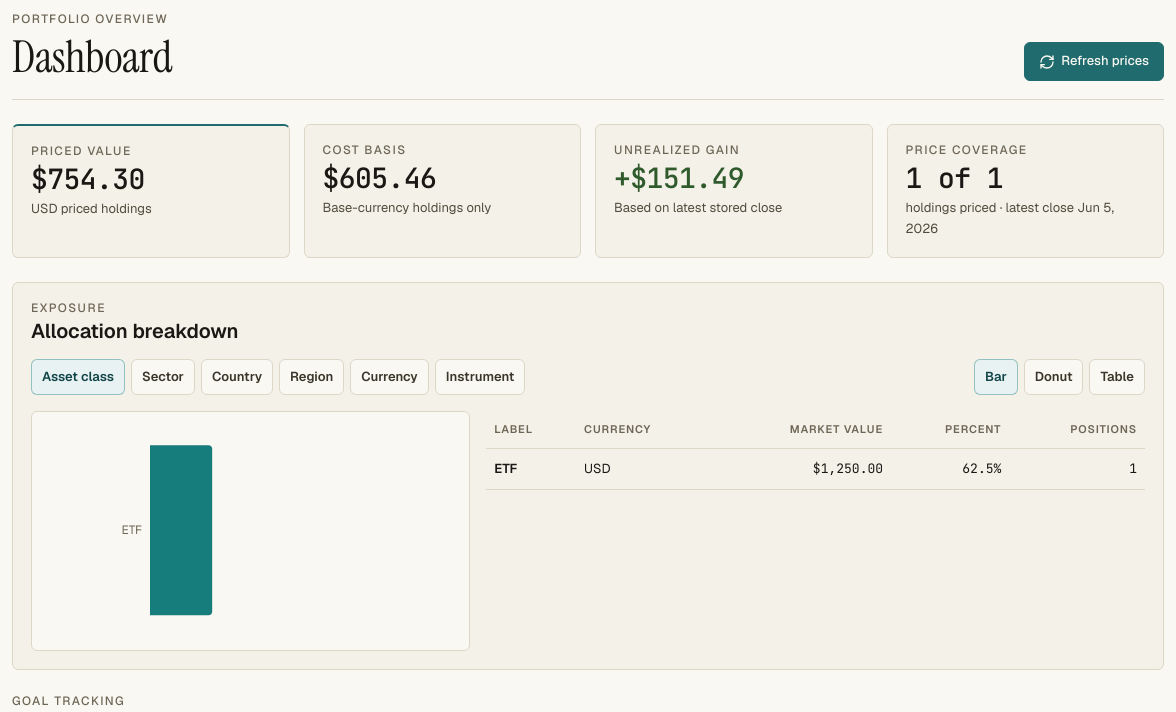
Scenario: DashboardPage › shows summed units for the instrument breakdown
Click the button "Instrument" at (480, 377), box [435,359,525,395]
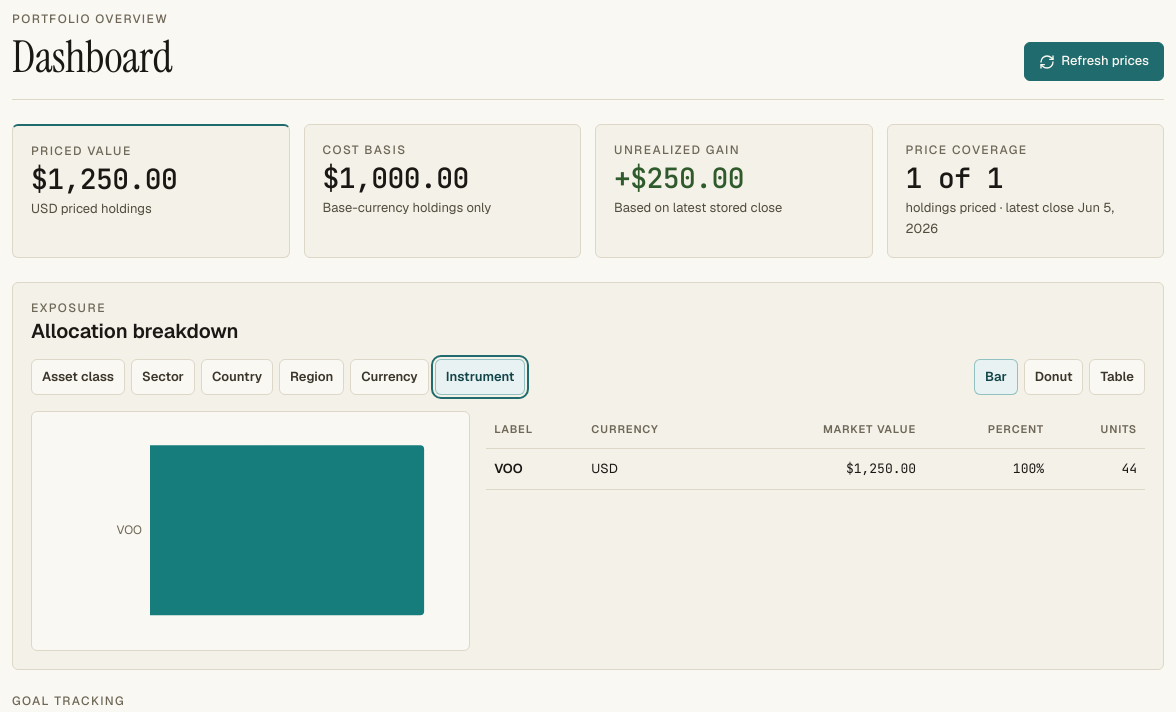
expect the column heading "Units" is shown: met, box [1052,411,1145,449]
expect the cell "44" is shown: met, box [1052,449,1145,490]
